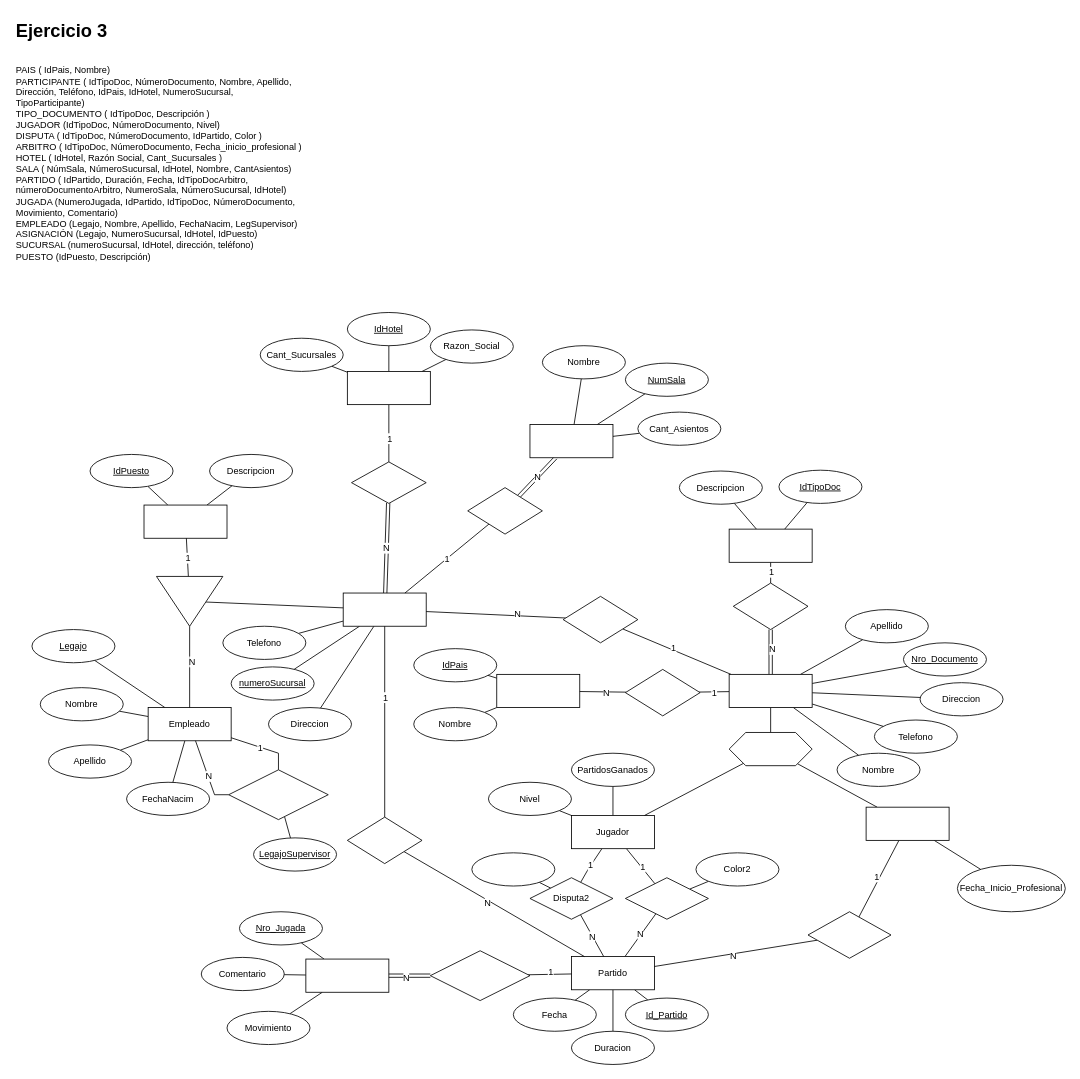
Image size: 1080x1079. Some labels were removed from this diagram. The box of each missing label's shape, as (x1, y1, x2, y2) in pixels:
Arbitro: (865, 806, 949, 840)
Asignacion: (156, 576, 223, 626)
Color1: (471, 852, 555, 886)
Disputa1: (625, 877, 708, 919)
Hotel: (347, 371, 430, 405)
Jugada: (305, 958, 389, 992)
Pais: (496, 674, 580, 708)
Participante: (728, 674, 812, 708)
Puesto: (143, 504, 227, 538)
Relationship: (430, 950, 530, 1001)
Sala: (529, 424, 613, 458)
Sucursal: (342, 592, 426, 626)
Supervisa: (228, 769, 328, 820)
Tipo_Documento: (728, 528, 812, 562)
TipoParticipante: (728, 732, 812, 766)
